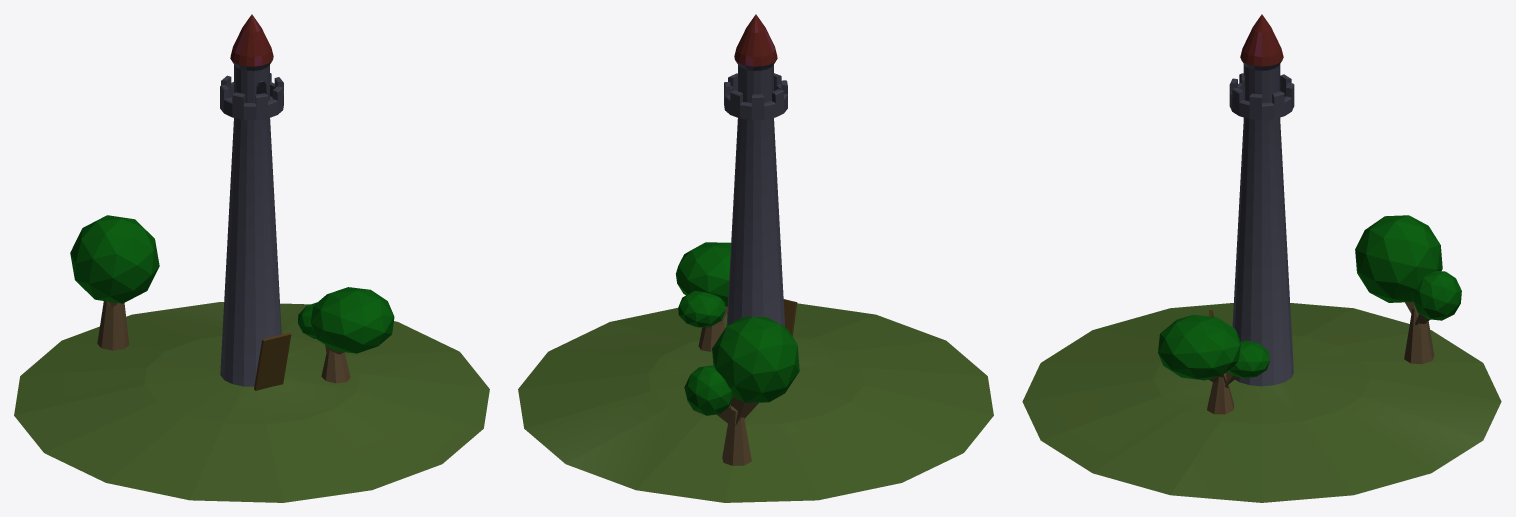
The model's file is tower.glb.
The picture shows the model from 3 angles, left to right: view 1: azimuth 30°, elevation 25°; view 2: azimuth 150°, elevation 25°; view 3: azimuth 270°, elevation 25°; orthographic projection.
Parts seen in each view (by area): view 1: Icosphere; view 2: Icosphere; view 3: Icosphere.
Boxes of the visible parts, x1,y1,x2,y2 form: Icosphere: [14, 14, 489, 502]; Icosphere: [518, 14, 993, 502]; Icosphere: [1022, 14, 1501, 502].
Bounding box in the file's own units: 15.01 × 13.4 × 15.01.
